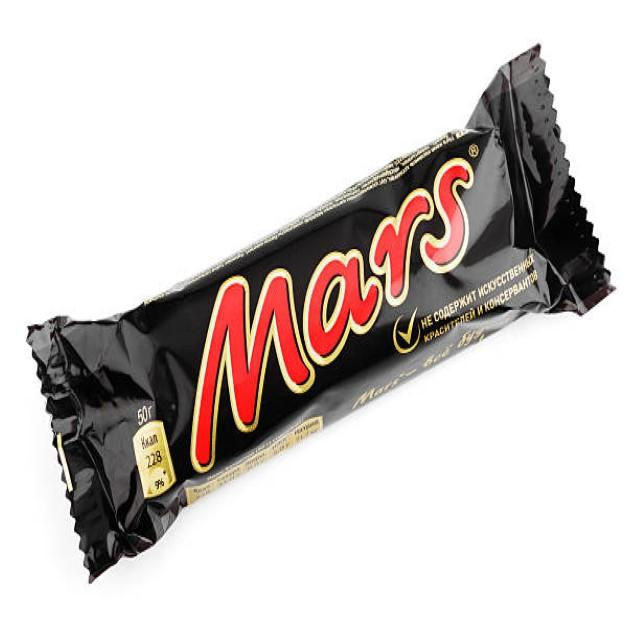mars_chocolate: (83, 103, 570, 572)
